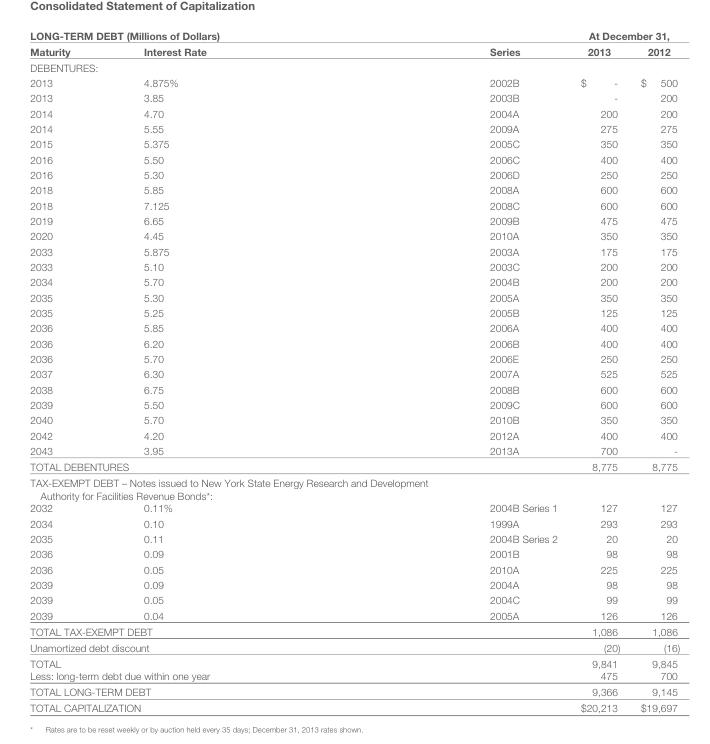table: (29, 28, 679, 713)
table column: (106, 28, 353, 713), (353, 28, 568, 713), (29, 28, 106, 713), (568, 28, 629, 713), (629, 28, 679, 713)
table column header: (29, 28, 679, 58)
table projected row header: (29, 473, 679, 501), (29, 58, 679, 74)
table row: (29, 473, 679, 501), (29, 42, 679, 58), (29, 58, 679, 74), (29, 89, 679, 105), (29, 135, 679, 151), (29, 181, 679, 197), (29, 227, 679, 243), (29, 273, 679, 289), (29, 319, 679, 335), (29, 365, 679, 381), (29, 411, 679, 427), (29, 457, 679, 473), (29, 545, 679, 561), (29, 591, 679, 607), (29, 622, 679, 638), (29, 638, 679, 654), (29, 683, 679, 699), (29, 74, 679, 89), (29, 105, 679, 120), (29, 120, 679, 135), (29, 151, 679, 166), (29, 166, 679, 181), (29, 197, 679, 212), (29, 212, 679, 227), (29, 243, 679, 258), (29, 258, 679, 273), (29, 289, 679, 304), (29, 304, 679, 319), (29, 335, 679, 350), (29, 350, 679, 365), (29, 381, 679, 396), (29, 396, 679, 411), (29, 427, 679, 442), (29, 442, 679, 457), (29, 515, 679, 530), (29, 530, 679, 545), (29, 561, 679, 576), (29, 576, 679, 591), (29, 607, 679, 622), (29, 654, 679, 669), (29, 28, 679, 42), (29, 501, 679, 515), (29, 669, 679, 683), (29, 699, 679, 713)
table spanning cell: (29, 622, 568, 638), (29, 654, 568, 669), (29, 669, 568, 683), (29, 699, 568, 713), (353, 28, 568, 58), (29, 457, 353, 473), (29, 638, 353, 654), (29, 683, 353, 699), (29, 28, 353, 42), (568, 28, 679, 42)
